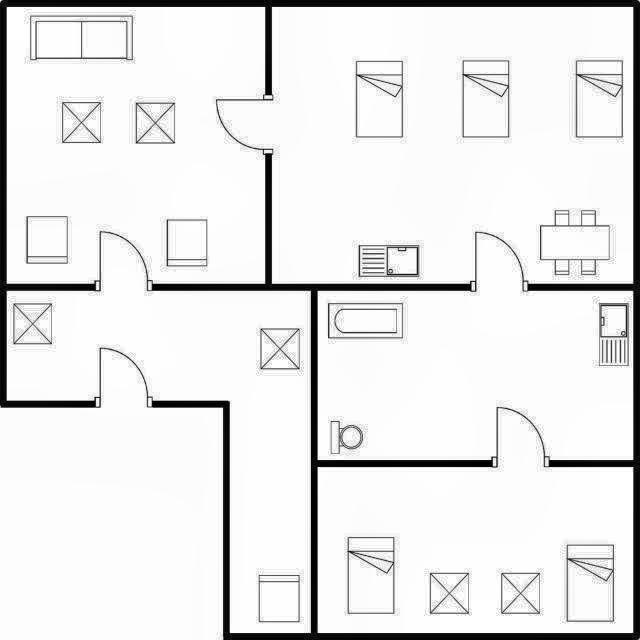room: (7, 291, 311, 633), (272, 7, 633, 284), (7, 7, 265, 284), (318, 291, 633, 460), (318, 467, 633, 633)
